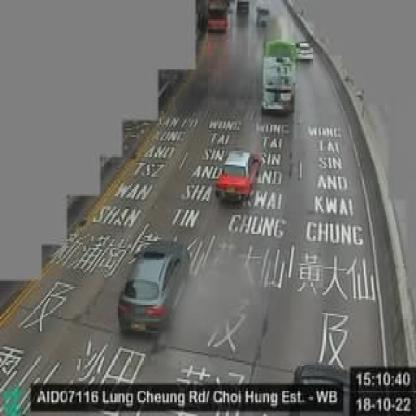Bus: (260, 15, 294, 118), (205, 2, 230, 33)
Car: (117, 238, 189, 337), (212, 148, 260, 206), (293, 40, 315, 64)
